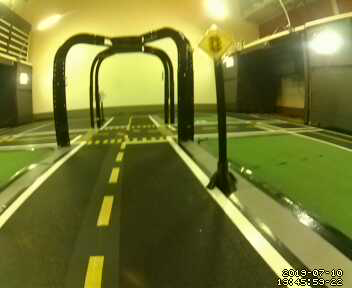Traffic light sign: (198, 25, 233, 60)
